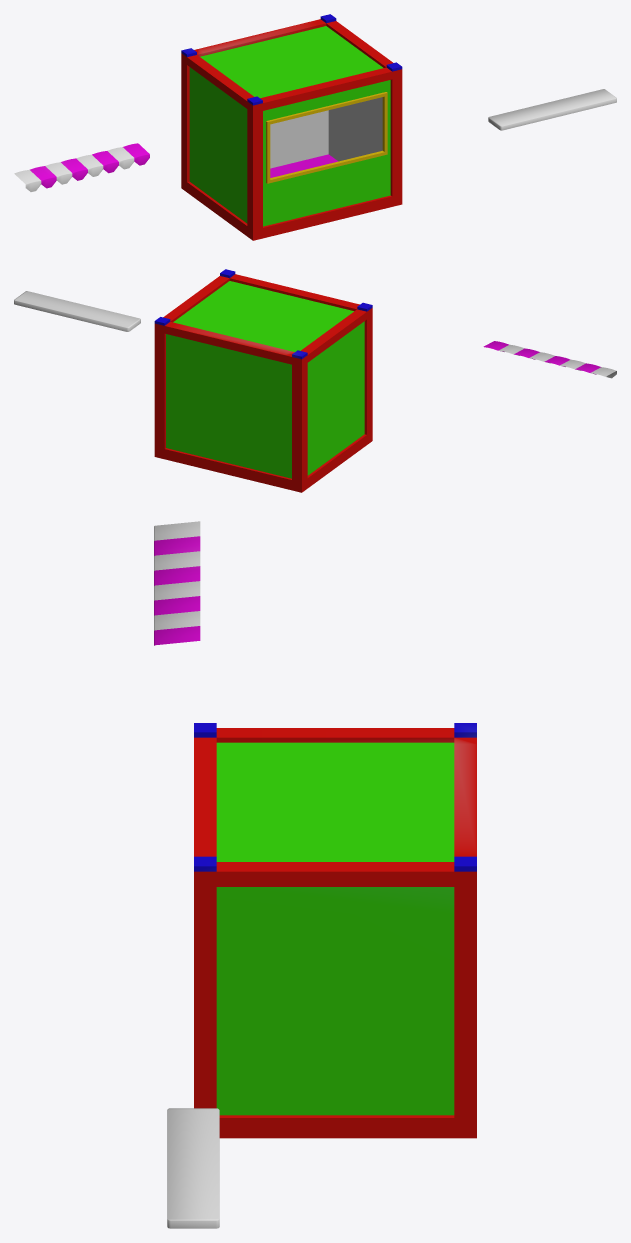
File: container.fbx
The picture shows the model from 3 angles, top to bottom: view 1: azimuth 30°, elevation 25°; view 2: azimuth 150°, elevation 25°; view 3: azimuth 270°, elevation 25°; orthographic projection. The views are drawn at different scales.
Visible parts, largest first — view 1: container, container_bar, container_store1, container_store2; view 2: container, container_bar, container_store1, container_store2; view 3: container, container_bar, container_store1, container_store2.
Part boxes in pixels (left/top/right/bottom): container: left=181, top=14, right=402, bottom=240; container_bar: left=488, top=89, right=616, bottom=130; container_store1: left=14, top=147, right=134, bottom=191; container_store2: left=30, top=143, right=149, bottom=188; container: left=154, top=269, right=372, bottom=492; container_bar: left=14, top=291, right=140, bottom=331; container_store1: left=498, top=344, right=616, bottom=378; container_store2: left=483, top=341, right=600, bottom=374; container: left=194, top=723, right=476, bottom=1138; container_bar: left=167, top=1108, right=219, bottom=1228; container_store1: left=154, top=521, right=200, bottom=630; container_store2: left=154, top=536, right=200, bottom=645.
Bounding box in the file's own units: 1198 × 265 × 285.
